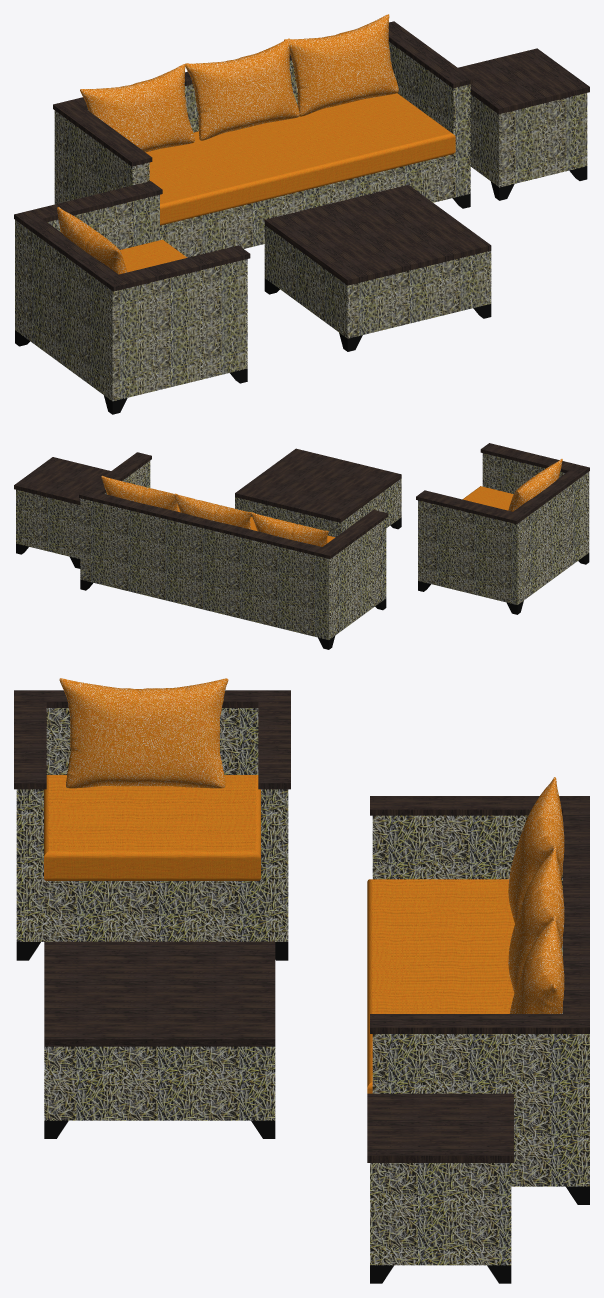
The model's file is furniture 3.dae.
The picture shows the model from 3 angles, top to bottom: view 1: azimuth 30°, elevation 25°; view 2: azimuth 150°, elevation 25°; view 3: azimuth 270°, elevation 25°; orthographic projection. The views are drawn at different scales.
Parts seen in each view (by area): view 1: group_6 (×2), group_7 (×2), group_1 (×2), Component_2 (×4), Component_1, group_12 (×2), Component_3; view 2: group_1 (×2), group_6 (×2), group_7 (×2), group_12 (×2), Component_2 (×4), Component_3; view 3: group_1 (×2), group_7 (×2), group_6 (×2), Component_2 (×4), group_12 (×2), Component_3, Component_1.
Boxes of the visible parts, x1,y1,x2,y2 form: group_6 (×2): (14,181,250,401); group_7 (×2): (264,184,491,338); group_1 (×2): (53,21,473,257); Component_2 (×4): (57,14,398,274); Component_1: (145,93,455,225); group_12 (×2): (458,48,589,187); Component_3: (120,239,187,272); group_1 (×2): (79,452,388,639); group_6 (×2): (416,443,589,604); group_7 (×2): (235,448,401,537); group_12 (×2): (14,457,110,558); Component_2 (×4): (101,459,562,546); Component_3: (462,486,513,510); group_1 (×2): (370,796,589,1186); group_7 (×2): (44,941,275,1120); group_6 (×2): (14,690,290,941); Component_2 (×4): (59,678,564,1013); group_12 (×2): (367,1093,513,1265); Component_3: (44,775,260,880); Component_1: (367,879,514,1093).
Bounding box in the file's own units: 141 × 83.51 × 33.76.
6 materials, 3 textured.
